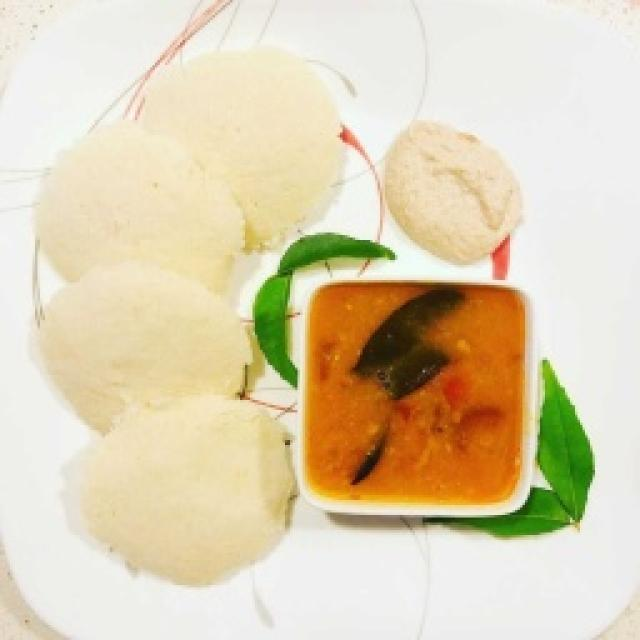idli: (48, 78, 296, 572)
